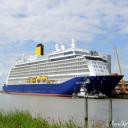cruises: (3, 39, 126, 102)
